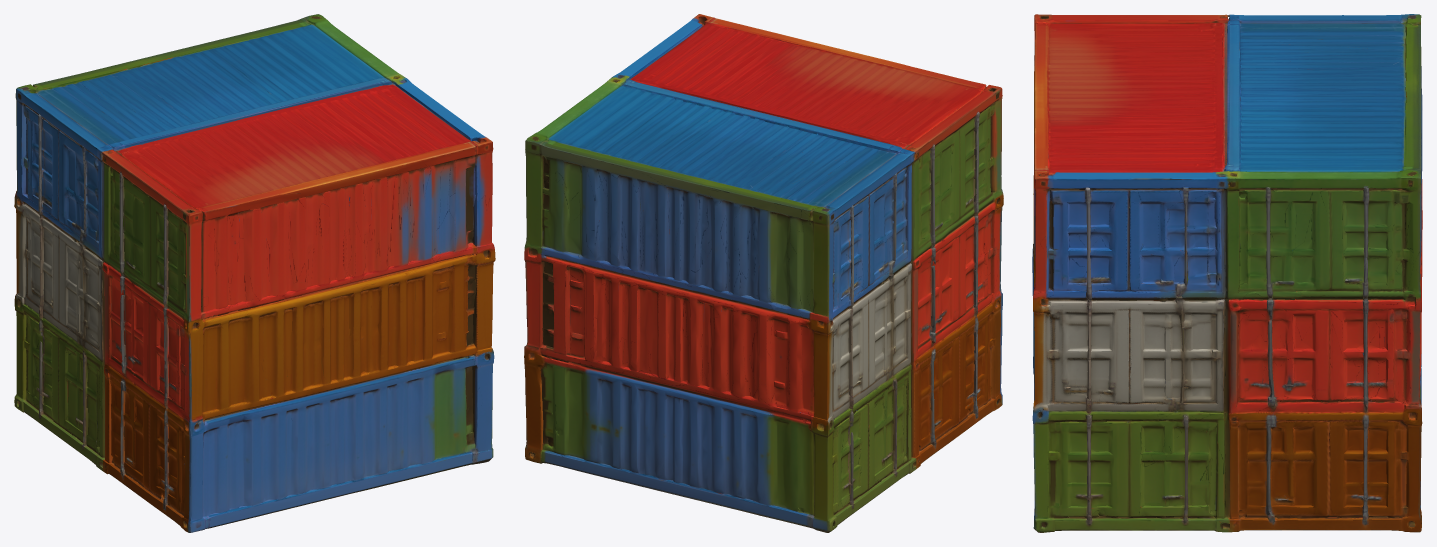
The model's file is hp_container_stack.glb.
3 renders of one model, left to right at view 1: azimuth 30°, elevation 25°; view 2: azimuth 150°, elevation 25°; view 3: azimuth 270°, elevation 25°, orthographic. The views are drawn at different scales.
Visible parts, largest first — view 1: geometry_0; view 2: geometry_0; view 3: geometry_0.
Part boxes in pixels (left/top/right/bottom): geometry_0: left=14, top=14, right=495, bottom=532; geometry_0: left=524, top=14, right=1003, bottom=532; geometry_0: left=1032, top=14, right=1422, bottom=532.
Bounding box in the file's own units: 7.79 × 7.8 × 7.72.
1 material, 1 textured.
